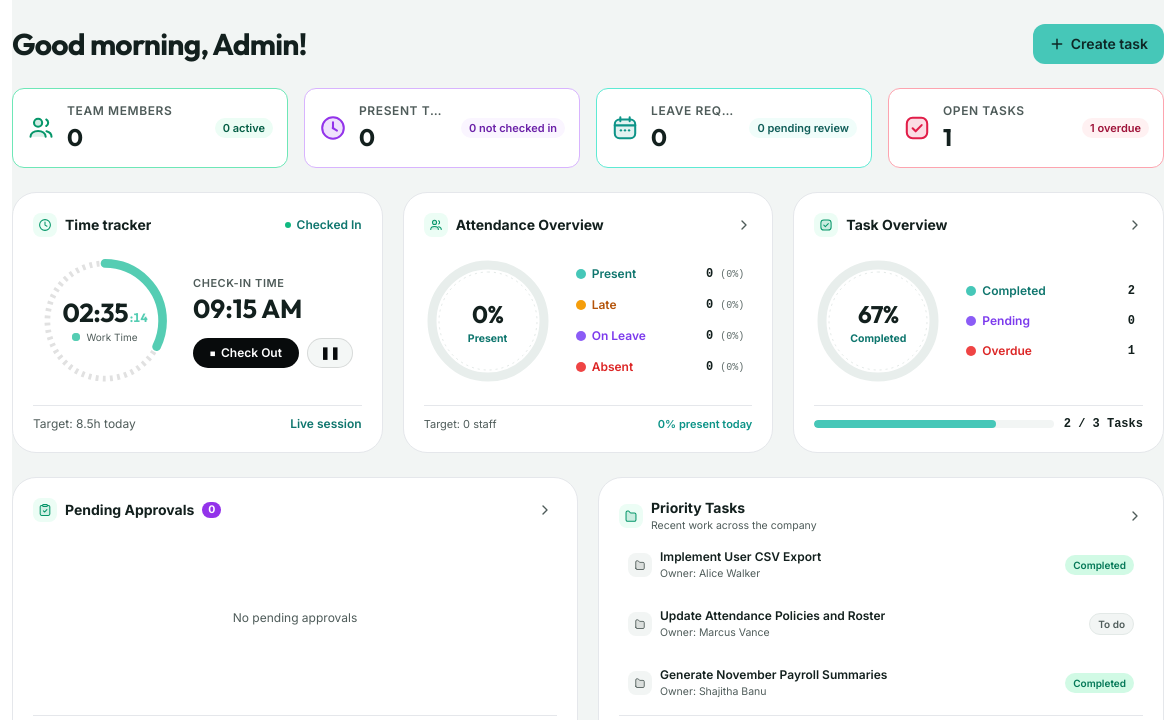
Dashboard Task Completion & Progress Updates (Issue #4) › AdminDashboard reflects live task completion and updates progress bar and counts
Check: the heading "Task Overview" is shown, box [846,215,948,235]
Check: the heading "Priority Tasks" is shown, box [651,499,745,516]
// Clicking the Priority Task badge directly toggles status and progress
Step 1. Click the button "Completed" in the row of "Implement User CSV Export" → point(1100, 565), box [1065,555,1134,575]
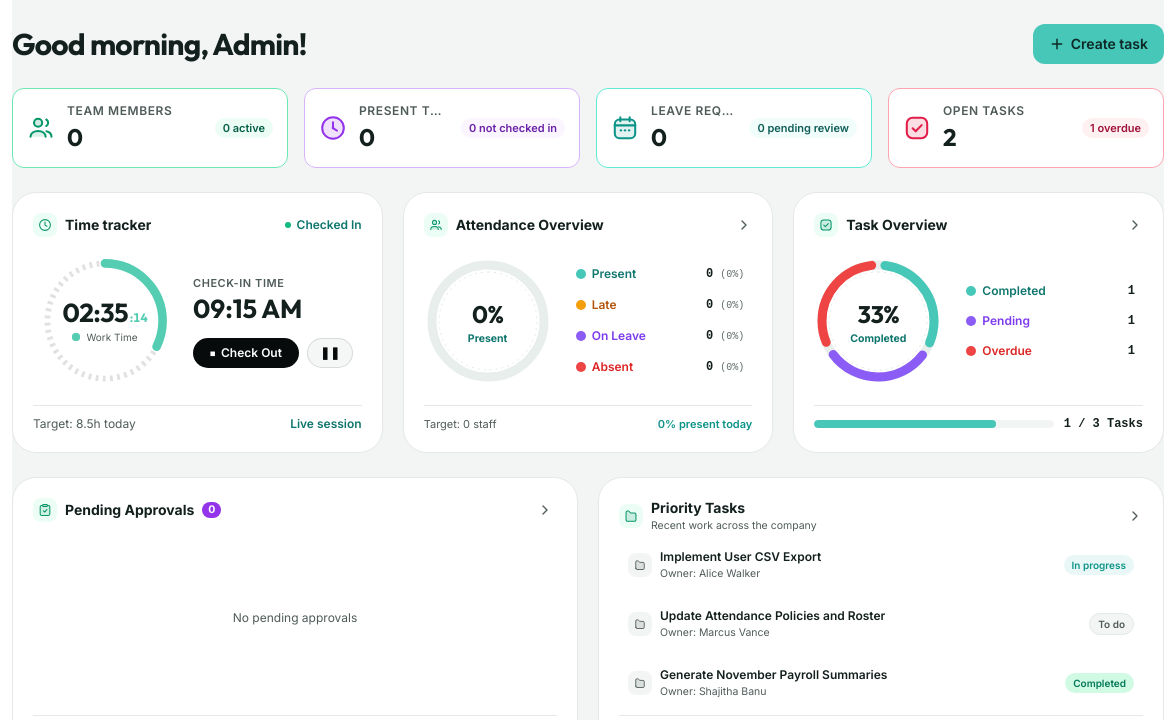
Check: the text "1 / 3 Tasks" is shown, box [1064,416,1143,432]
